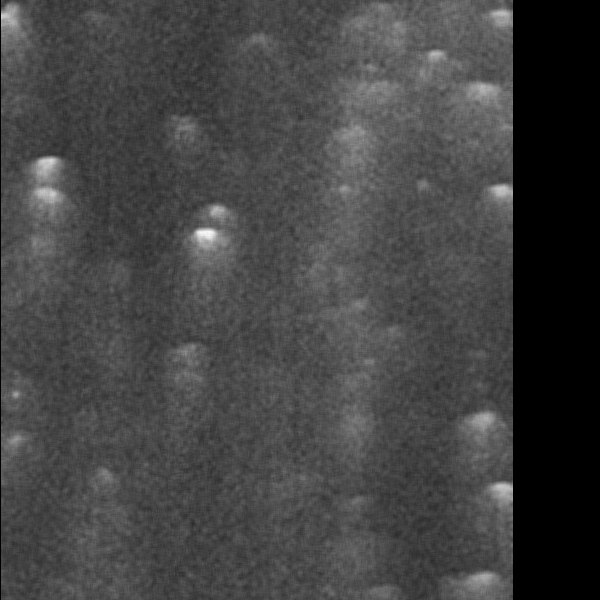spark: (304, 15, 438, 60), (30, 151, 65, 287), (459, 78, 510, 150), (180, 220, 225, 288), (458, 400, 503, 465), (161, 338, 201, 409), (330, 401, 386, 440), (456, 565, 512, 600), (167, 113, 204, 164), (18, 231, 72, 261), (487, 178, 515, 231), (90, 465, 124, 505), (493, 474, 514, 534), (238, 28, 275, 58), (75, 5, 115, 30), (423, 43, 451, 77), (318, 180, 368, 199), (488, 5, 515, 40), (341, 293, 377, 319), (5, 428, 24, 456)
